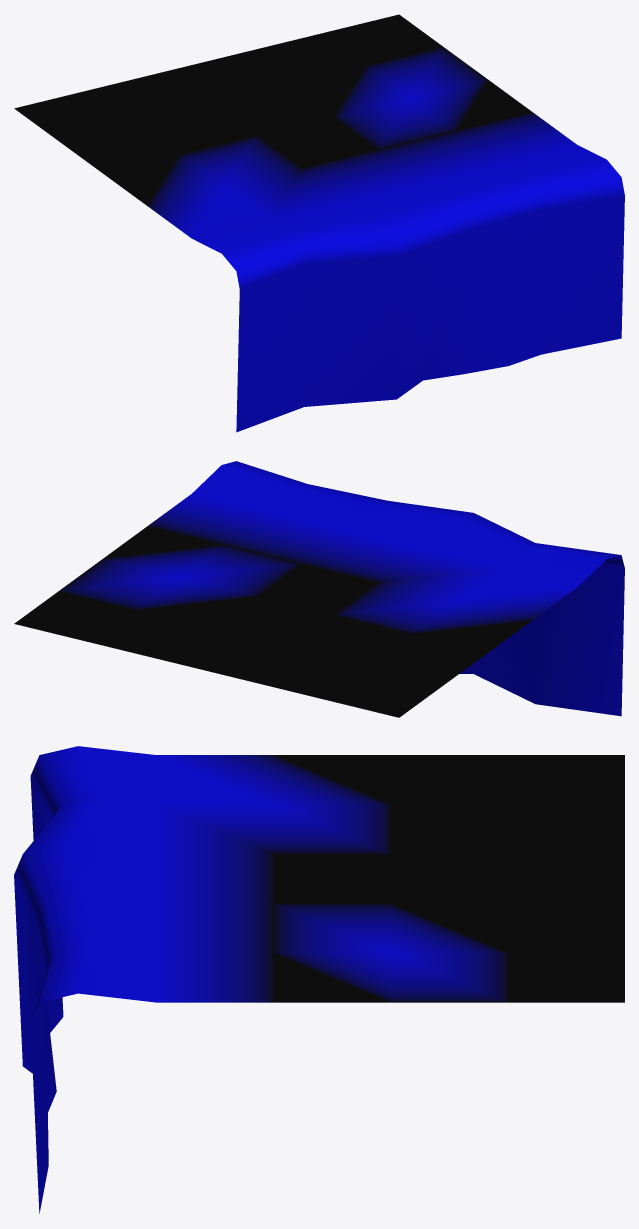
The model's file is Ground_Edge_0.fbx.
The picture shows the model from 3 angles, top to bottom: view 1: azimuth 30°, elevation 25°; view 2: azimuth 150°, elevation 25°; view 3: azimuth 270°, elevation 25°; orthographic projection. The views are drawn at different scales.
Visible parts, largest first — view 1: Ground_Edge_0; view 2: Ground_Edge_0; view 3: Ground_Edge_0.
Boxes of the visible parts, x1,y1,x2,y2 form: Ground_Edge_0: [14, 14, 624, 432]; Ground_Edge_0: [14, 461, 624, 717]; Ground_Edge_0: [14, 746, 624, 1213].
Bounding box in the file's own units: 0.05 × 0.021 × 0.0522.
